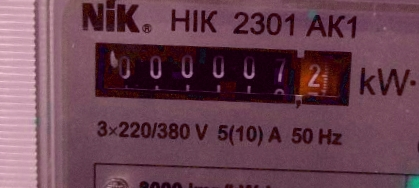0: (114, 52, 133, 80), (208, 52, 227, 80), (177, 51, 195, 80), (146, 52, 164, 80), (240, 53, 257, 82)
2: (305, 62, 322, 89)
7: (271, 54, 288, 84)
screen: (80, 29, 364, 118)
